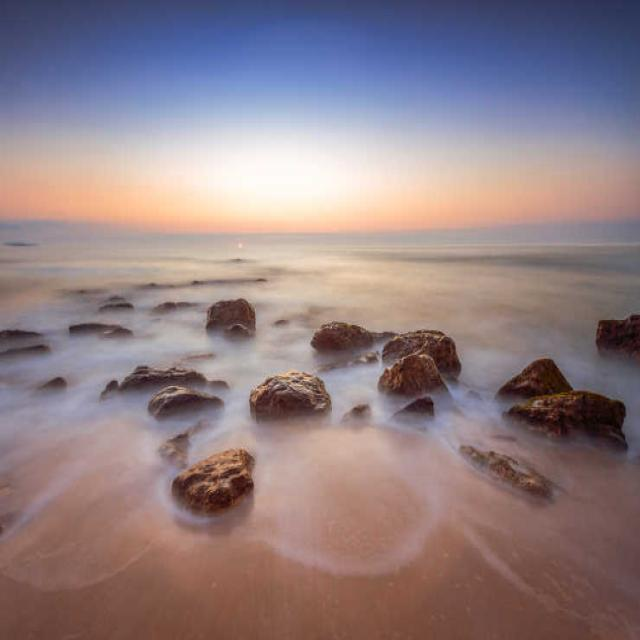reef: (497, 354, 629, 484), (364, 300, 464, 421), (543, 310, 640, 426), (255, 309, 362, 411), (172, 395, 248, 520), (204, 260, 276, 349), (88, 280, 152, 354)
